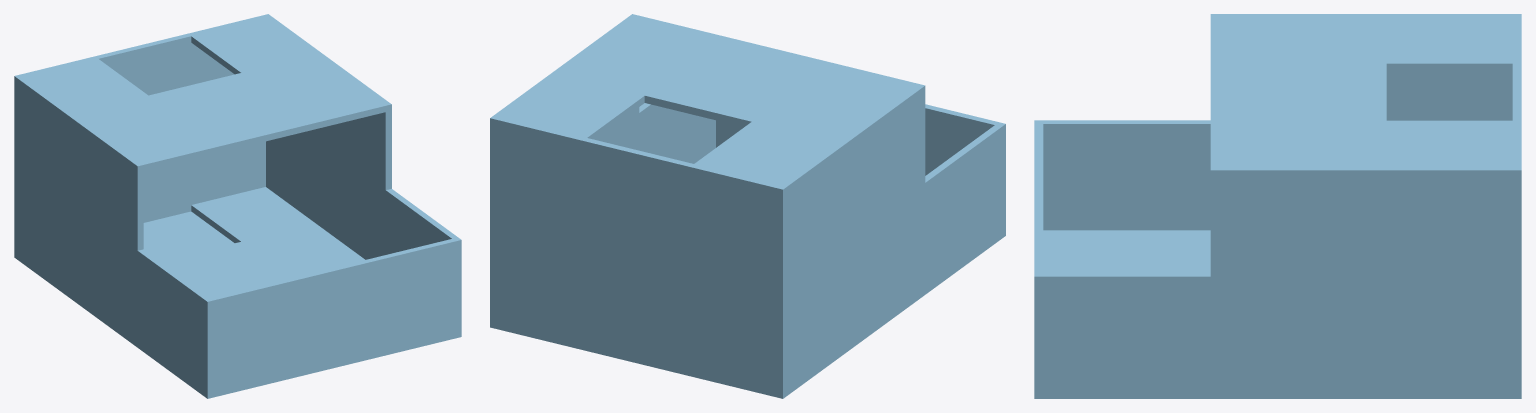
File: simple_navigation.dae
3 renders of one model, left to right at view 1: azimuth 30°, elevation 25°; view 2: azimuth 150°, elevation 25°; view 3: azimuth 270°, elevation 25°, orthographic. The views are drawn at different scales.
Visible parts, largest first — view 1: 6025548aa5bd3d10bb496d4d (×2); view 2: 6025548aa5bd3d10bb496d4d (×2); view 3: 6025548aa5bd3d10bb496d4d (×2).
Part boxes in pixels (box(x1,y1,x2,y2)): 6025548aa5bd3d10bb496d4d (×2): box(14, 14, 461, 398); 6025548aa5bd3d10bb496d4d (×2): box(490, 14, 1005, 398); 6025548aa5bd3d10bb496d4d (×2): box(1034, 14, 1521, 398).
Bounding box in the file's own units: 6.3 × 8.3 × 4.3.
